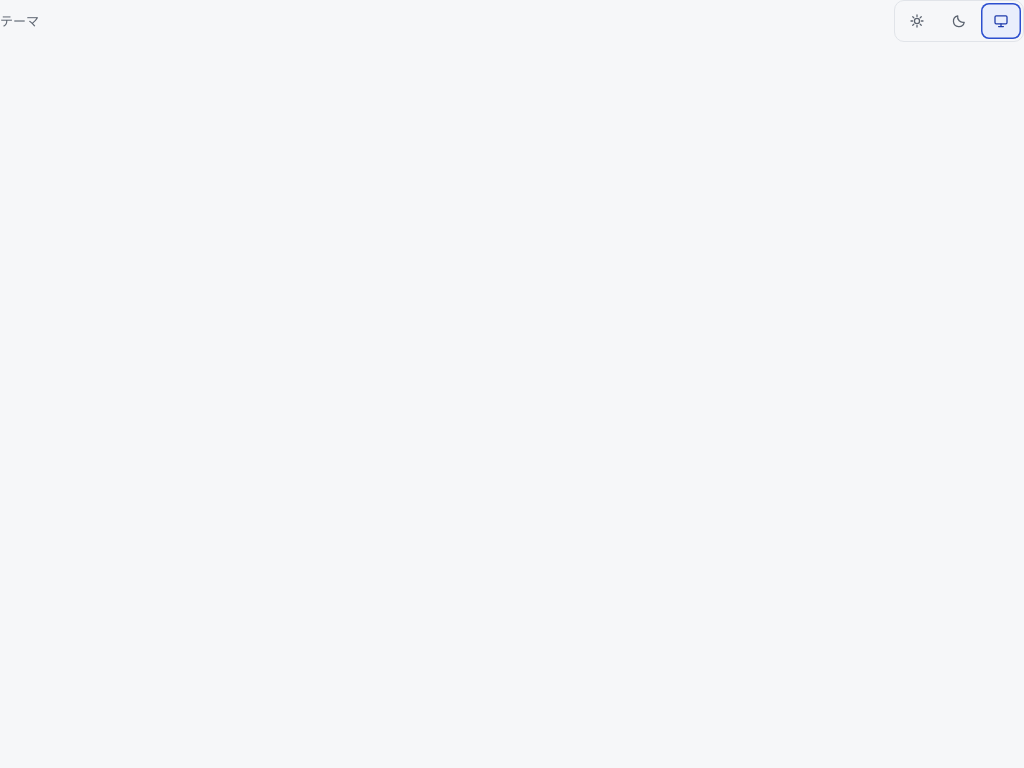
Test: ThemeSwitch › ダークを選ぶと、適用して保存する。システムに戻すと、どちらも消す
Click the button named "ダーク" at (959, 21), box top-left (939, 3), bottom-right (979, 39)
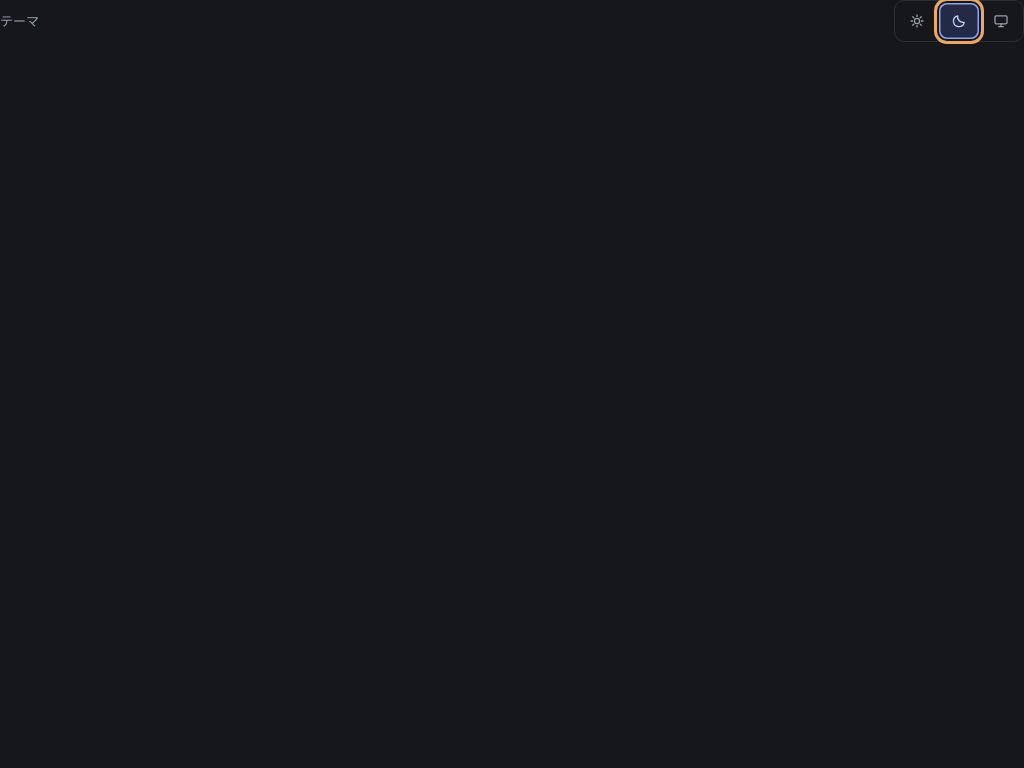
Check: the button named "ダーク" is pressed, box top-left (939, 3), bottom-right (979, 39)
Click the button named "システム" at (1001, 21), box top-left (981, 3), bottom-right (1021, 39)
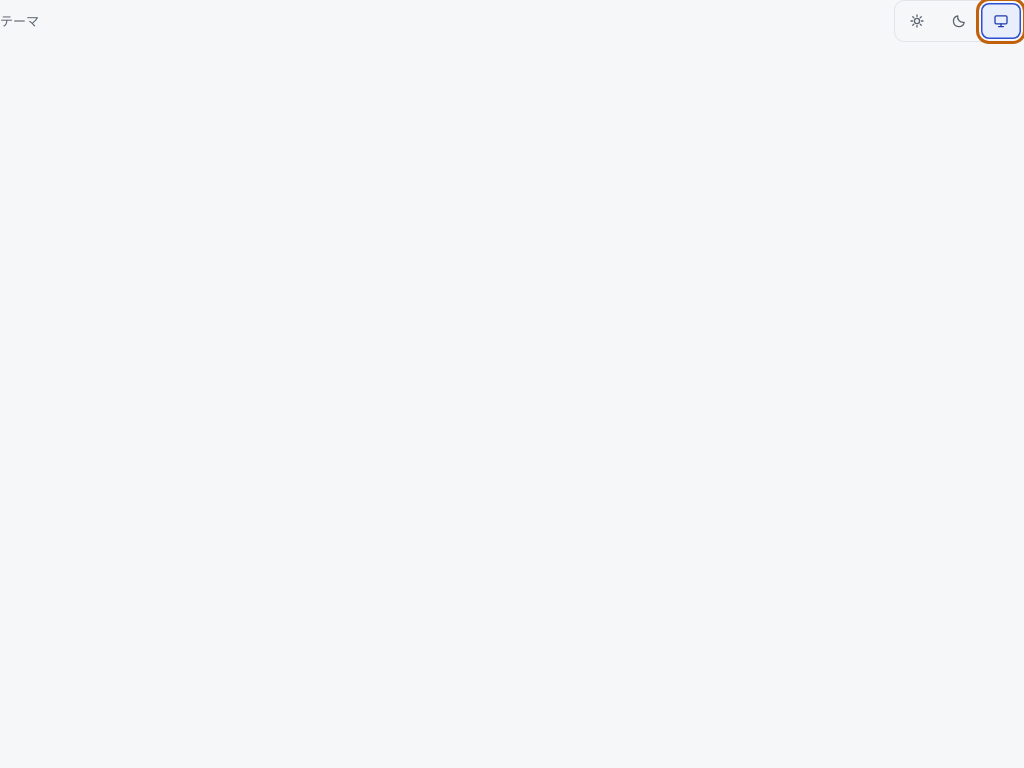
Check: the button named "システム" is pressed, box top-left (981, 3), bottom-right (1021, 39)
